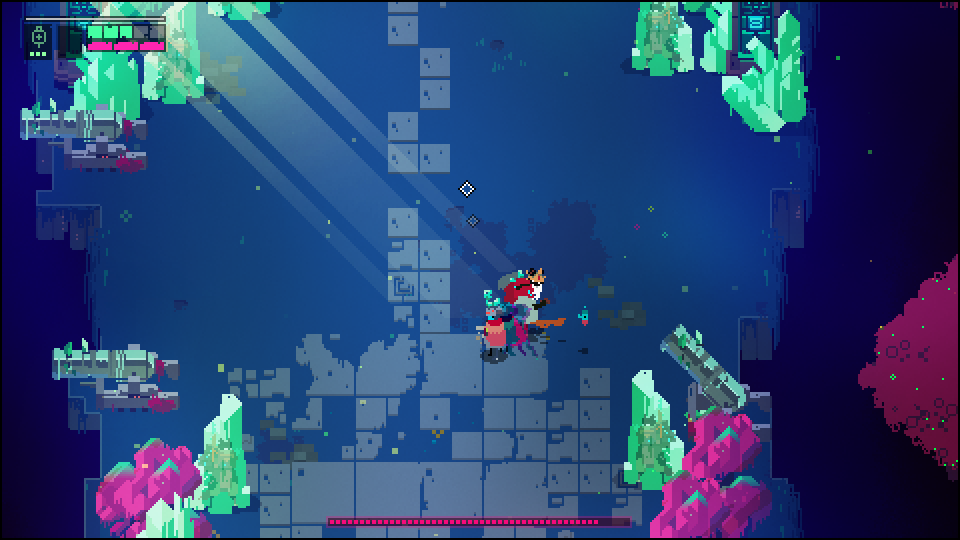hanged_man: (491, 268, 563, 339)
player: (483, 307, 506, 353)
